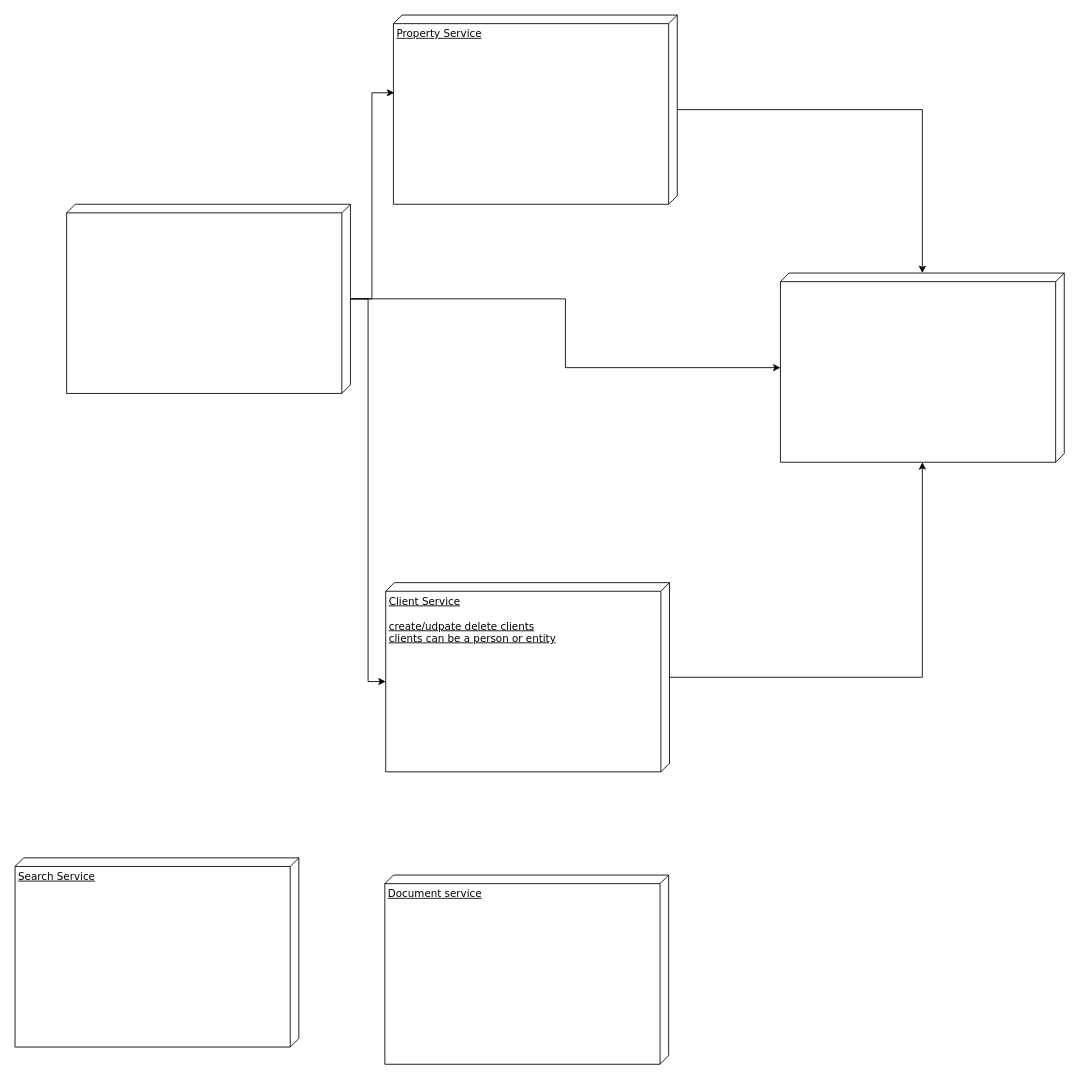
The diagram is 1079 pixels wide and 1079 high, and some of its shapes have lost their labels. The centre of each missing label's shape, as x and y in pixels:
"Financial Service" goes at [922,367].
"Loan Service Create/update/delete loans for application" goes at [208,298].
